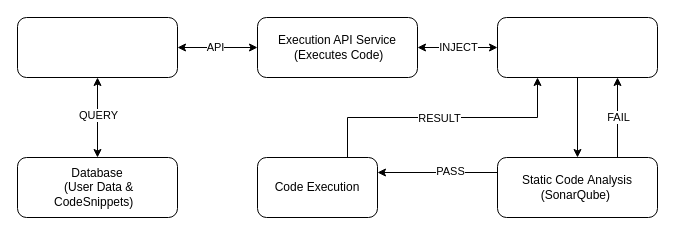
Image size: 675x235. Some labels were removed from this diagram. The shapes that lost their labels are listed below. From the top down, each one's box as (x1, y1, x2, y2) in pixels, then its label:
(16, 16, 178, 78): User Service (Auth, Register, Code Submission)
(496, 16, 658, 78): Dockerized Language Environment (Python,Java, etc.)
